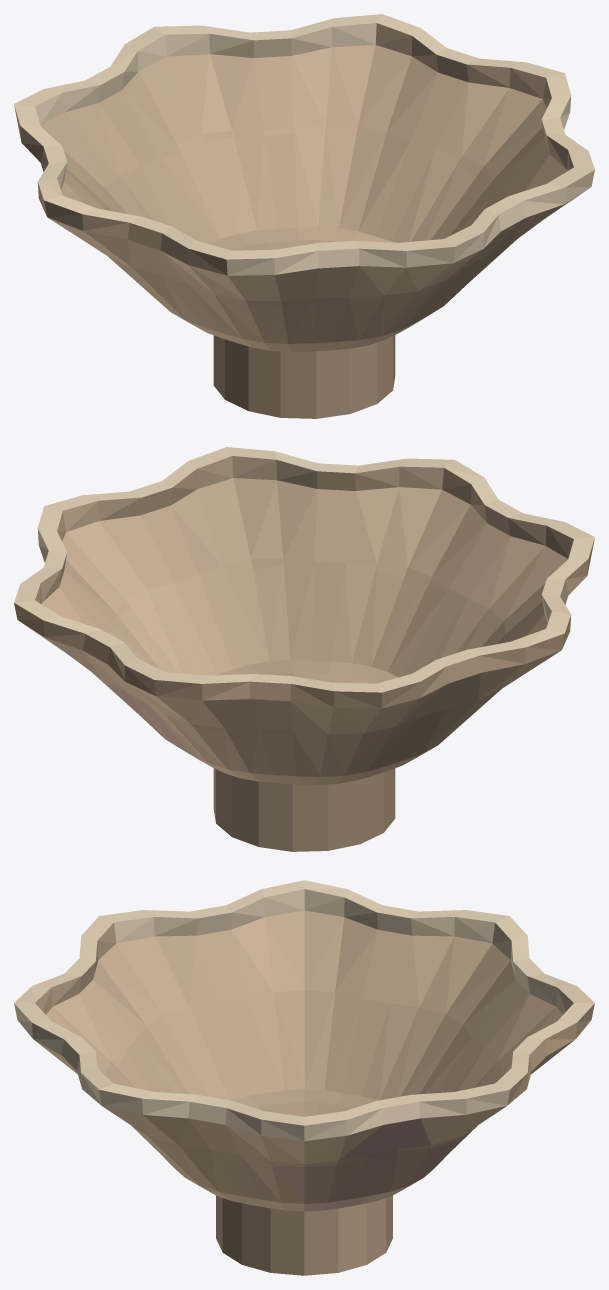
File: vessel-hagi.glb
3 renders of one model, top to bottom at view 1: azimuth 30°, elevation 25°; view 2: azimuth 150°, elevation 25°; view 3: azimuth 270°, elevation 25°, orthographic. The views are drawn at different scales.
Parts seen in each view (by area): view 1: vessel-hagi/complete-inner-outer-shell-with-drainage, vessel-hagi/complete-open-foot-ring; view 2: vessel-hagi/complete-inner-outer-shell-with-drainage, vessel-hagi/complete-open-foot-ring; view 3: vessel-hagi/complete-inner-outer-shell-with-drainage, vessel-hagi/complete-open-foot-ring.
Part boxes in pixels (x1,y1,x2,y2): vessel-hagi/complete-inner-outer-shell-with-drainage: (14,14,594,351); vessel-hagi/complete-open-foot-ring: (213,335,395,418); vessel-hagi/complete-inner-outer-shell-with-drainage: (14,447,594,784); vessel-hagi/complete-open-foot-ring: (213,768,395,851); vessel-hagi/complete-inner-outer-shell-with-drainage: (14,880,594,1211); vessel-hagi/complete-open-foot-ring: (216,1195,392,1275).
Size of the model in its own units: 0.3881 by 0.1735 by 0.3881.
1 material, 1 textured.
